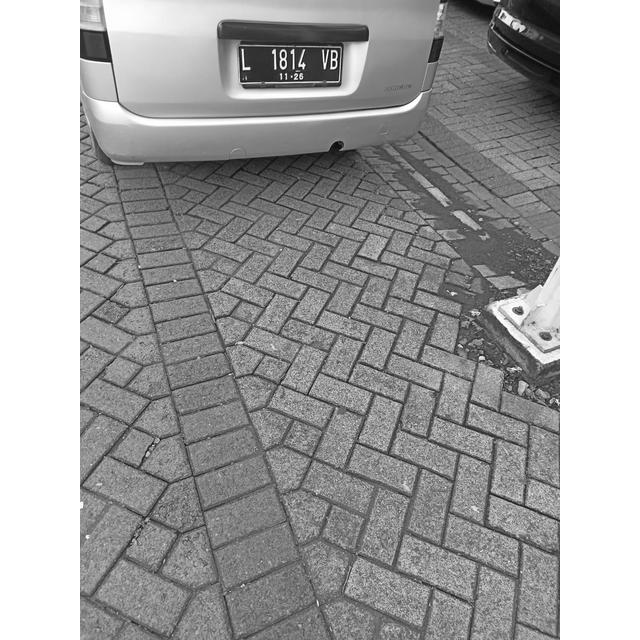license: (239, 48, 339, 82)
